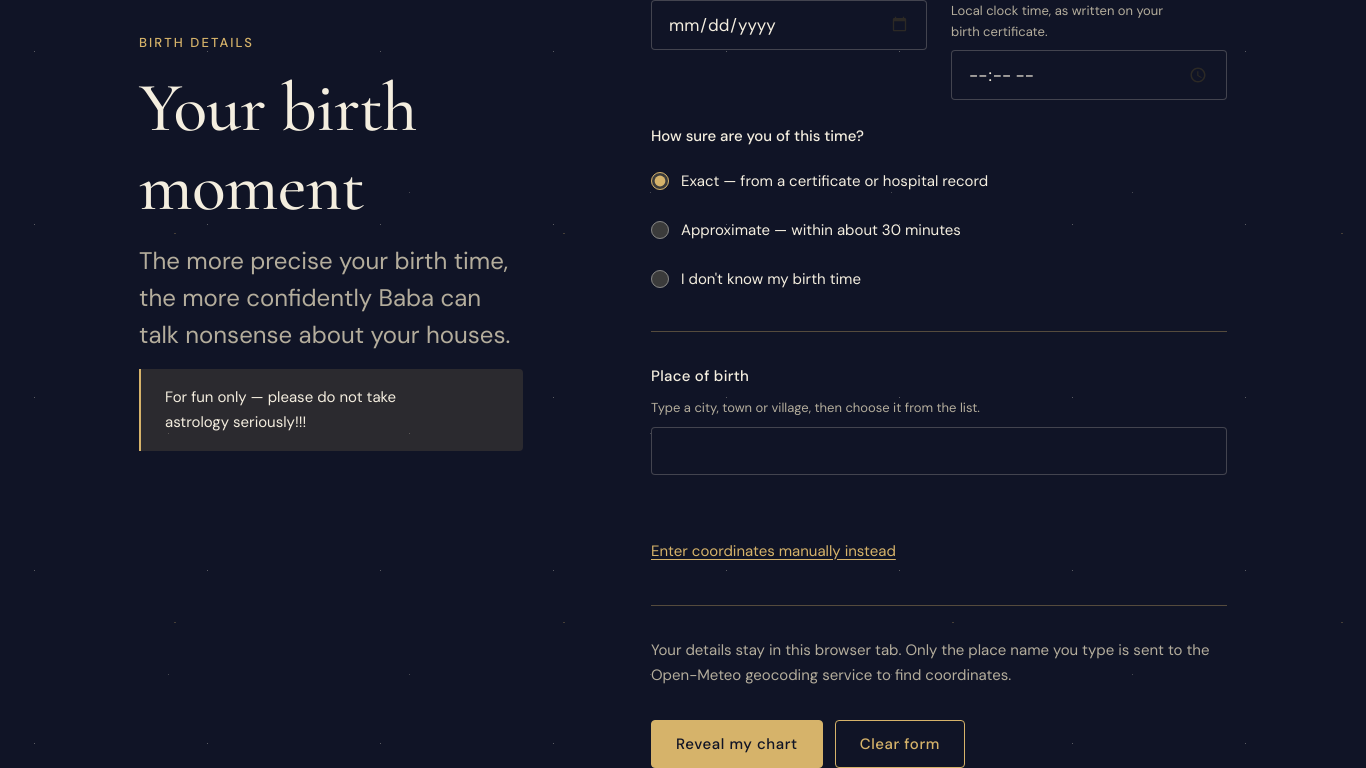
it: BirthDetailsPage › shows a summary of problems when submitted empty
(page scrolled)
Click the button "Reveal my chart". click: click(737, 744)
box: [651,720,823,767]
(page scrolled)
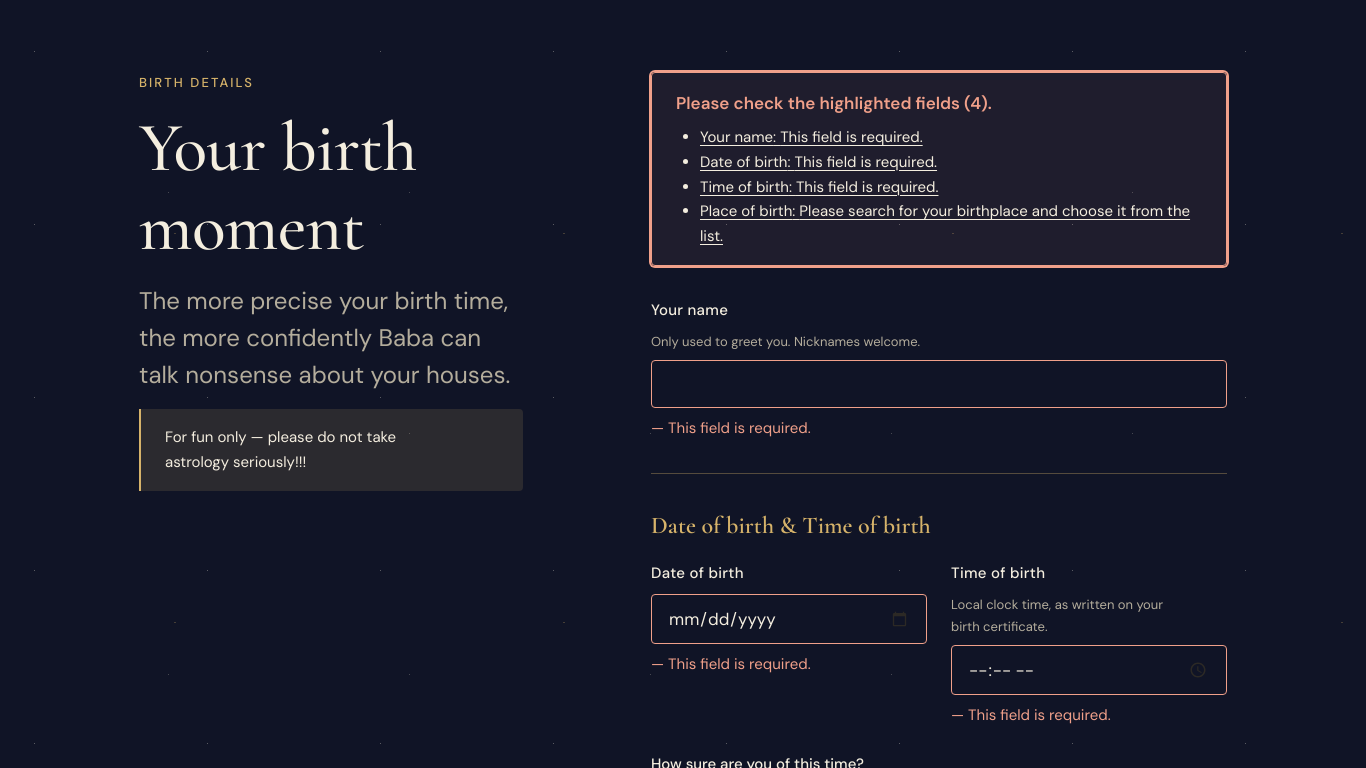
Expected: the message shows "Please check the highlighted fields (4)", [676,92,992,114]
